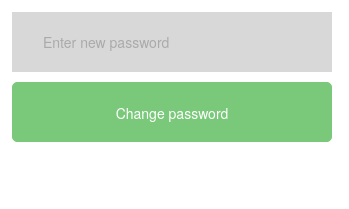
it: ResetPasswordForm › shows the length message and keeps submit disabled for a short password
Type "short" into the password field labelled "password". click: (172, 42)
box: [12,12,332,72]
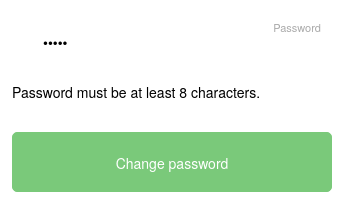
Check: the button "Change password" is disabled, box [12,132,332,192]
Check: the text "Password must be at least 8 characters." is shown, box [12,82,260,102]
